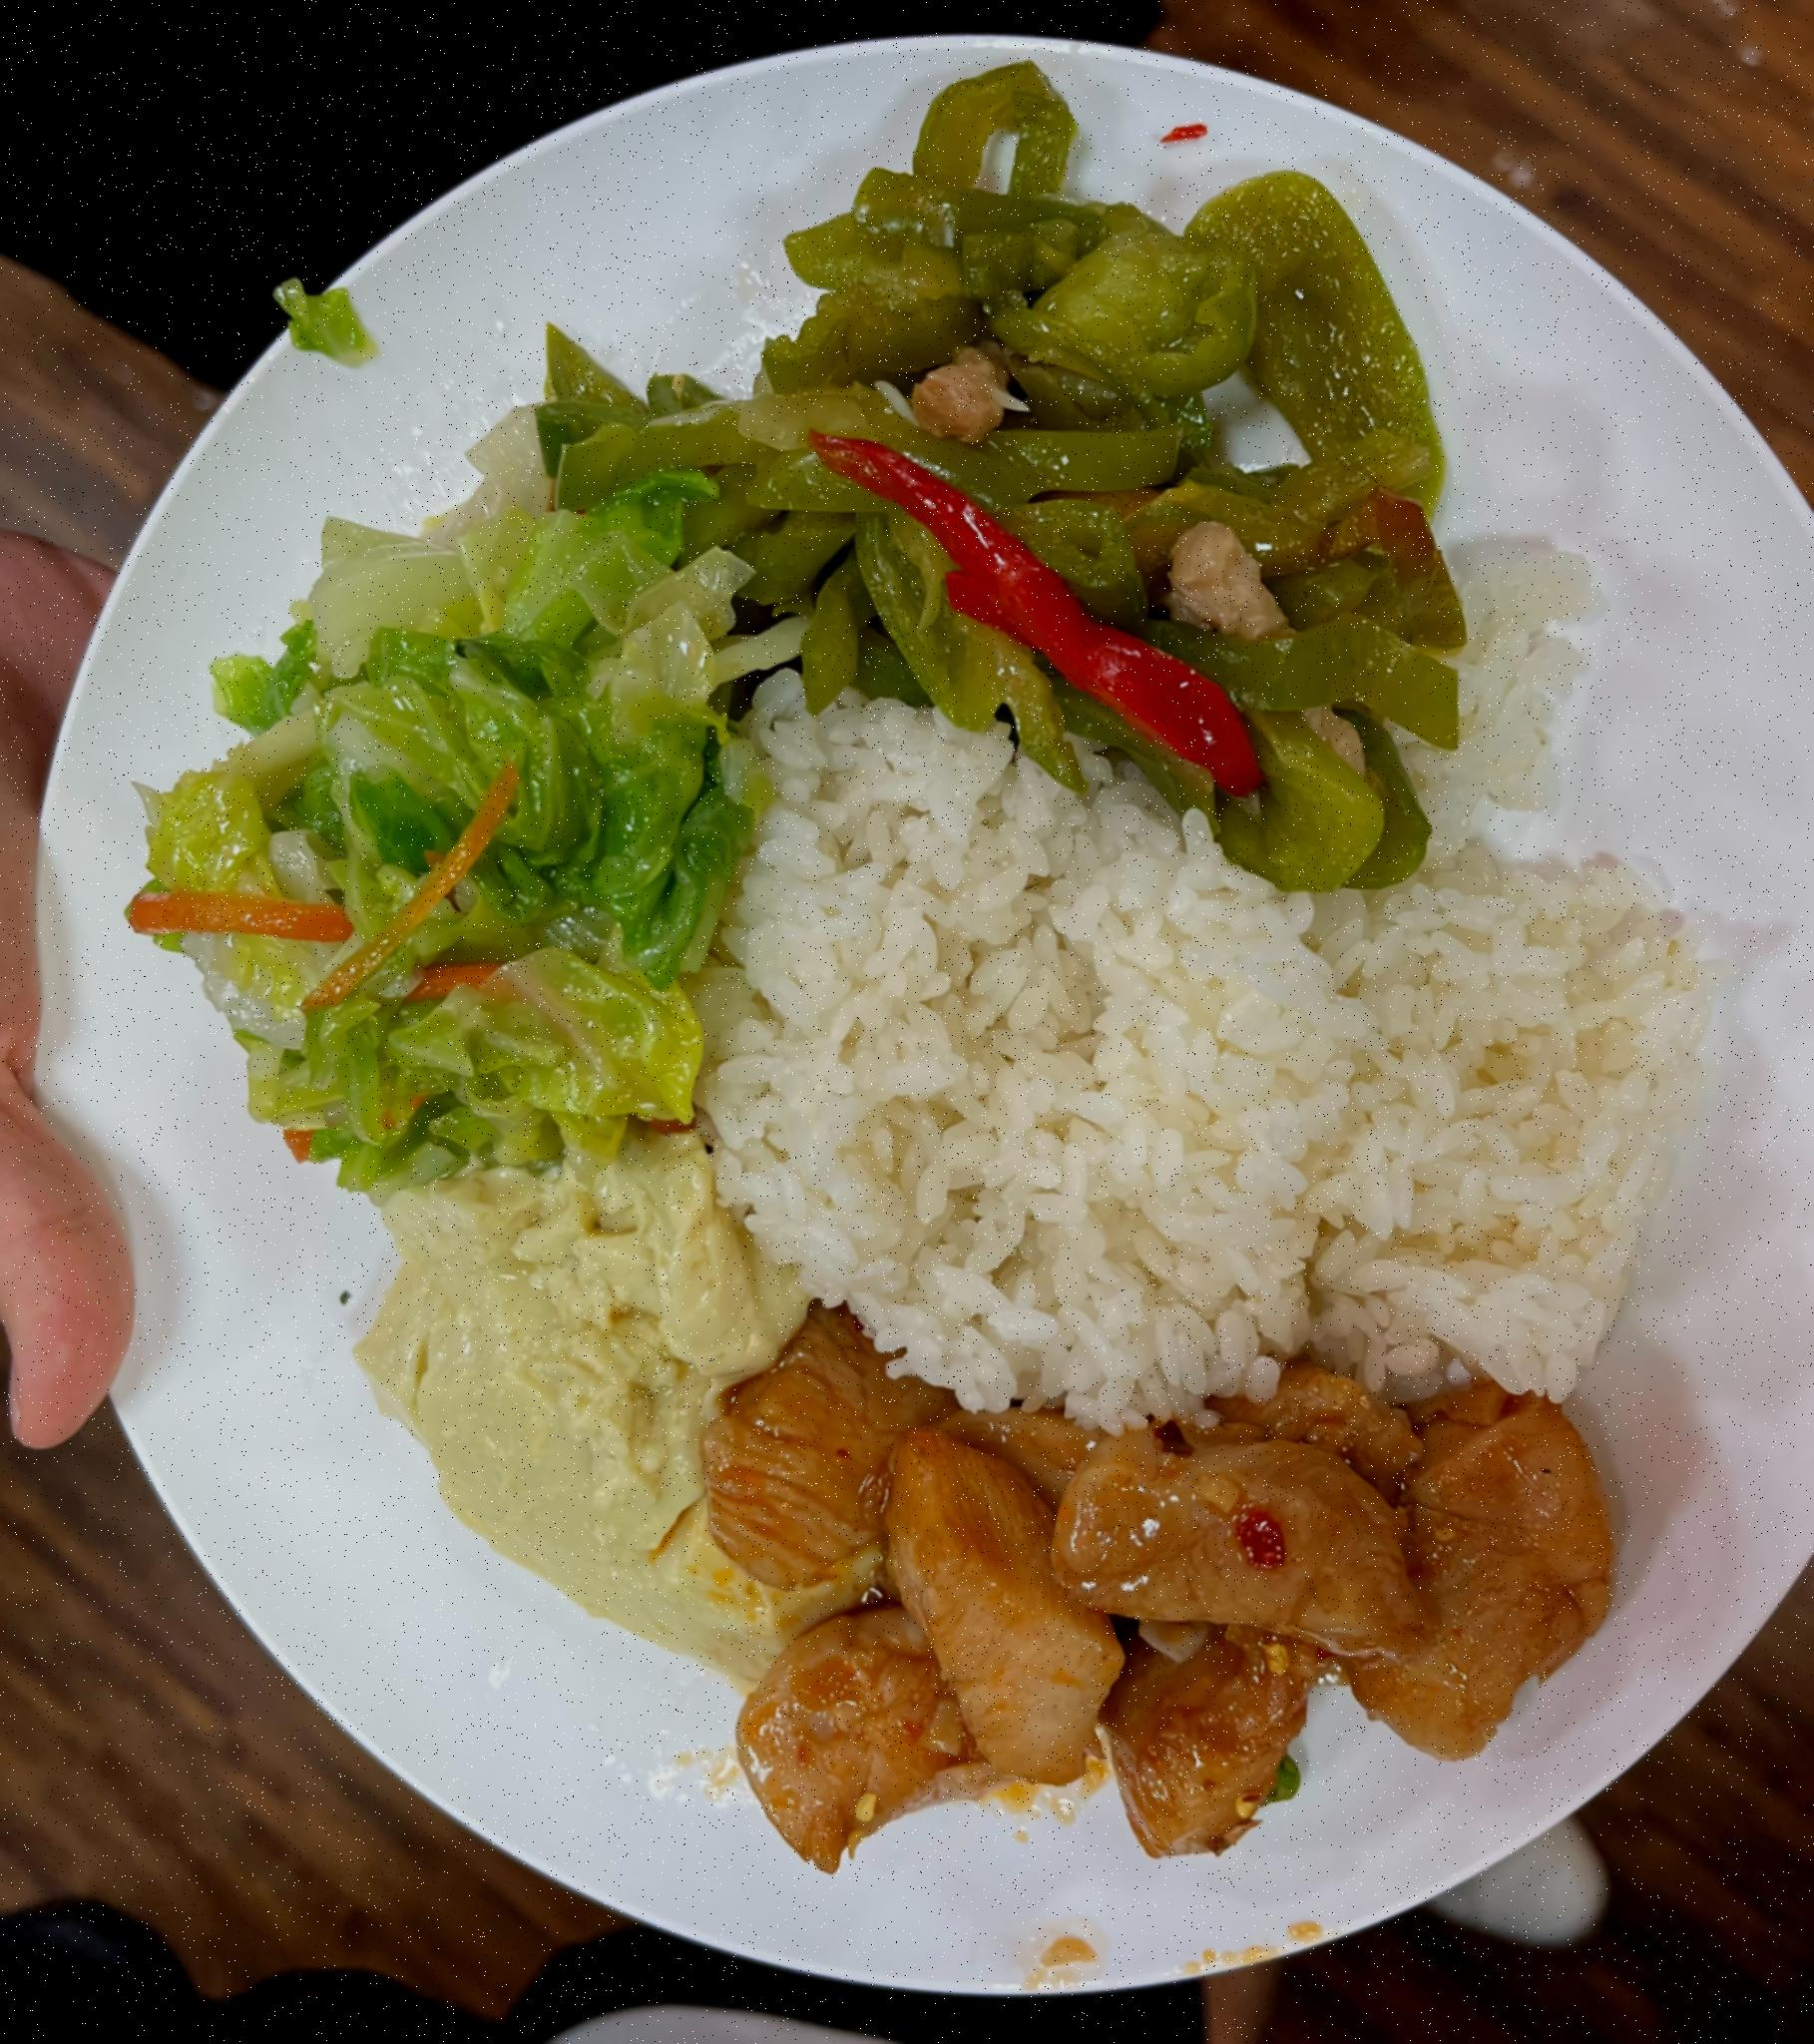plate: (11, 26, 1806, 1990)
side dish: (573, 128, 1465, 838), (170, 482, 738, 1175), (337, 1148, 792, 1669)
spicy chicken: (697, 1321, 1617, 1866)
white rice: (721, 728, 1703, 1400)
